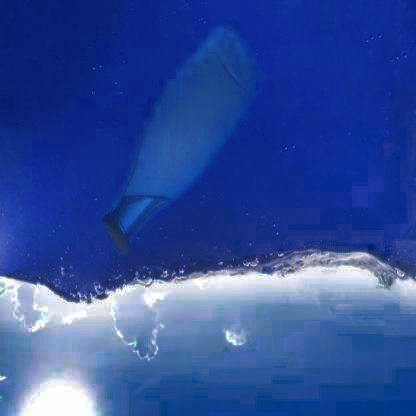gbottle: (100, 31, 254, 253)
